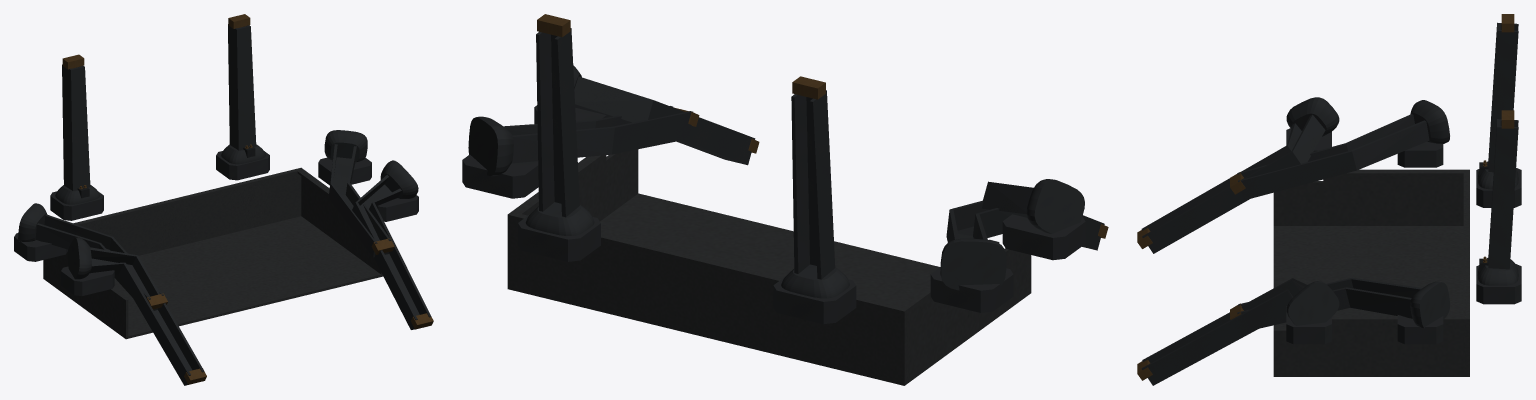
File: installation-service-underlay.glb
3 renders of one model, left to right at view 1: azimuth 30°, elevation 25°; view 2: azimuth 150°, elevation 25°; view 3: azimuth 270°, elevation 25°, orthographic. The views are drawn at different scales.
Visible parts, largest first — view 1: WIDE BAY V16 open-front floor sidewalls and retained rims, WIDE BAY V16 fore backwall and closed rim, Low surrounding-platform diagonal 0, Low surrounding-platform diagonal 2, Low surrounding-platform diagonal 4, Low surrounding-platform diagonal 5, Low surrounding-platform diagonal 3, Low surrounding-platform diagonal 1, Low curved cast seat Low surrounding-platform diagonal 3, Installation bay foundation landing 0, Installation bay foundation landing 5, Installation bay foundation landing 4 (+8 smaller); view 2: WIDE BAY V16 fore backwall and closed rim, WIDE BAY V16 open-front floor sidewalls and retained rims, Low surrounding-platform diagonal 5, Low surrounding-platform diagonal 4, Low surrounding-platform diagonal 3, Low surrounding-platform diagonal 2, Low curved cast seat Low surrounding-platform diagonal 1, Installation bay foundation landing 0, Low curved cast seat Low surrounding-platform diagonal 0, Installation bay foundation landing 4, Installation bay foundation landing 5, Installation bay foundation landing 3 (+8 smaller); view 3: WIDE BAY V16 open-front floor sidewalls and retained rims, Low surrounding-platform diagonal 1, Low surrounding-platform diagonal 0, Low surrounding-platform diagonal 2, Low surrounding-platform diagonal 5, Low surrounding-platform diagonal 3, Low surrounding-platform diagonal 4, Low curved cast seat Low surrounding-platform diagonal 2, WIDE BAY V16 fore backwall and closed rim, Low curved cast seat Low surrounding-platform diagonal 3, Low curved cast seat Low surrounding-platform diagonal 0, Installation bay foundation landing 3 (+7 smaller).
Boxes of the visible parts, left/top/right/bottom form: WIDE BAY V16 open-front floor sidewalls and retained rims: left=46, top=169, right=383, bottom=339; WIDE BAY V16 fore backwall and closed rim: left=43, top=167, right=303, bottom=280; Low surrounding-platform diagonal 0: left=90, top=247, right=204, bottom=385; Low surrounding-platform diagonal 2: left=352, top=174, right=431, bottom=329; Low surrounding-platform diagonal 4: left=62, top=64, right=90, bottom=190; Low surrounding-platform diagonal 5: left=228, top=24, right=256, bottom=150; Low surrounding-platform diagonal 3: left=328, top=144, right=391, bottom=257; Low surrounding-platform diagonal 1: left=35, top=214, right=163, bottom=310; Low curved cast seat Low surrounding-platform diagonal 3: left=324, top=130, right=367, bottom=162; Installation bay foundation landing 0: left=61, top=266, right=114, bottom=295; Installation bay foundation landing 5: left=216, top=151, right=269, bottom=180; Installation bay foundation landing 4: left=50, top=191, right=103, bottom=220; WIDE BAY V16 fore backwall and closed rim: left=507, top=211, right=908, bottom=385; WIDE BAY V16 open-front floor sidewalls and retained rims: left=512, top=149, right=1031, bottom=382; Low surrounding-platform diagonal 5: left=536, top=28, right=579, bottom=217; Low surrounding-platform diagonal 4: left=791, top=90, right=835, bottom=279; Low surrounding-platform diagonal 3: left=503, top=106, right=692, bottom=163; Low surrounding-platform diagonal 2: left=574, top=76, right=755, bottom=165; Low curved cast seat Low surrounding-platform diagonal 1: left=940, top=238, right=1006, bottom=290; Installation bay foundation landing 0: left=1002, top=214, right=1085, bottom=260; Low curved cast seat Low surrounding-platform diagonal 0: left=1026, top=179, right=1084, bottom=233; Installation bay foundation landing 4: left=773, top=276, right=856, bottom=324; Installation bay foundation landing 5: left=518, top=214, right=600, bottom=261; Installation bay foundation landing 3: left=462, top=154, right=538, bottom=198; WIDE BAY V16 open-front floor sidewalls and retained rims: left=1273, top=169, right=1463, bottom=376; Low surrounding-platform diagonal 1: left=1237, top=114, right=1429, bottom=200; Low surrounding-platform diagonal 0: left=1141, top=114, right=1325, bottom=253; Low surrounding-platform diagonal 2: left=1141, top=278, right=1307, bottom=385; Low surrounding-platform diagonal 5: left=1488, top=119, right=1518, bottom=269; Low surrounding-platform diagonal 3: left=1237, top=277, right=1422, bottom=328; Low surrounding-platform diagonal 4: left=1488, top=22, right=1518, bottom=172; Low curved cast seat Low surrounding-platform diagonal 2: left=1286, top=281, right=1339, bottom=325; WIDE BAY V16 fore backwall and closed rim: left=1463, top=169, right=1469, bottom=376; Low curved cast seat Low surrounding-platform diagonal 3: left=1410, top=281, right=1449, bottom=328; Low curved cast seat Low surrounding-platform diagonal 0: left=1286, top=97, right=1339, bottom=136; Installation bay foundation landing 3: left=1397, top=315, right=1443, bottom=344.
Bounding box in the file's own units: 3.79 × 2.17 × 3.04.
Materials: 4 (4 with a texture image).
